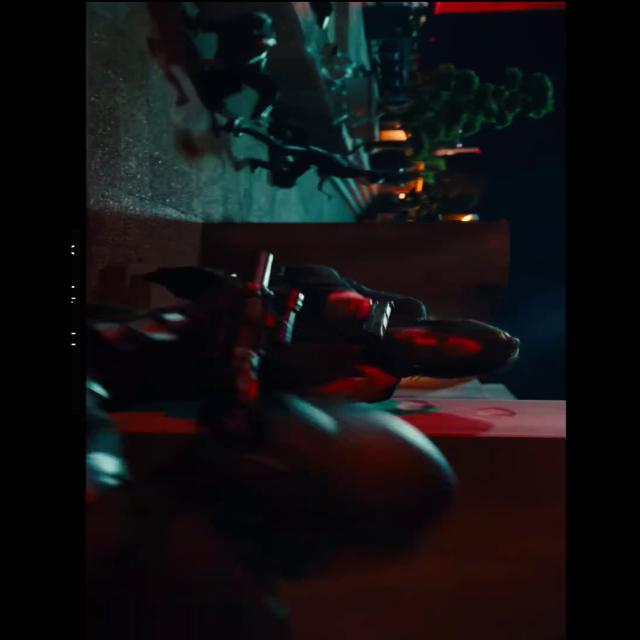weapons: (312, 286, 412, 342)
